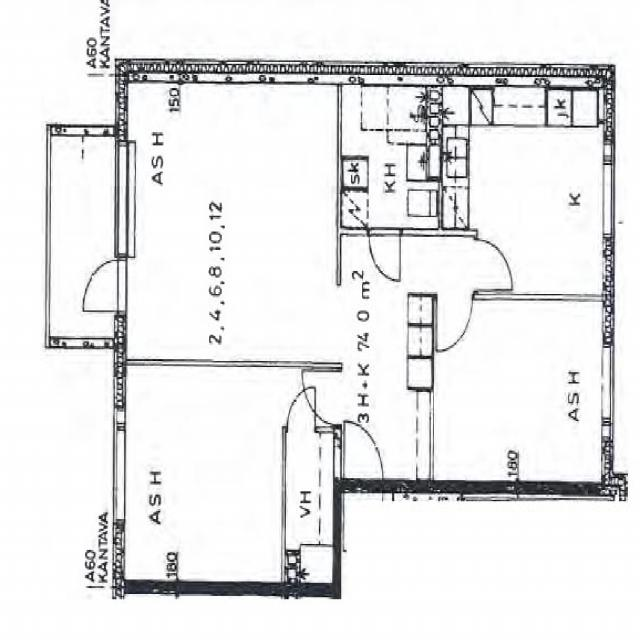door: (345, 425, 383, 500), (79, 260, 125, 310), (302, 372, 342, 424), (436, 297, 472, 353), (473, 240, 511, 290), (369, 229, 400, 281), (287, 386, 315, 432)
